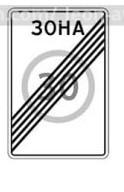road_sign: (9, 4, 110, 161)
